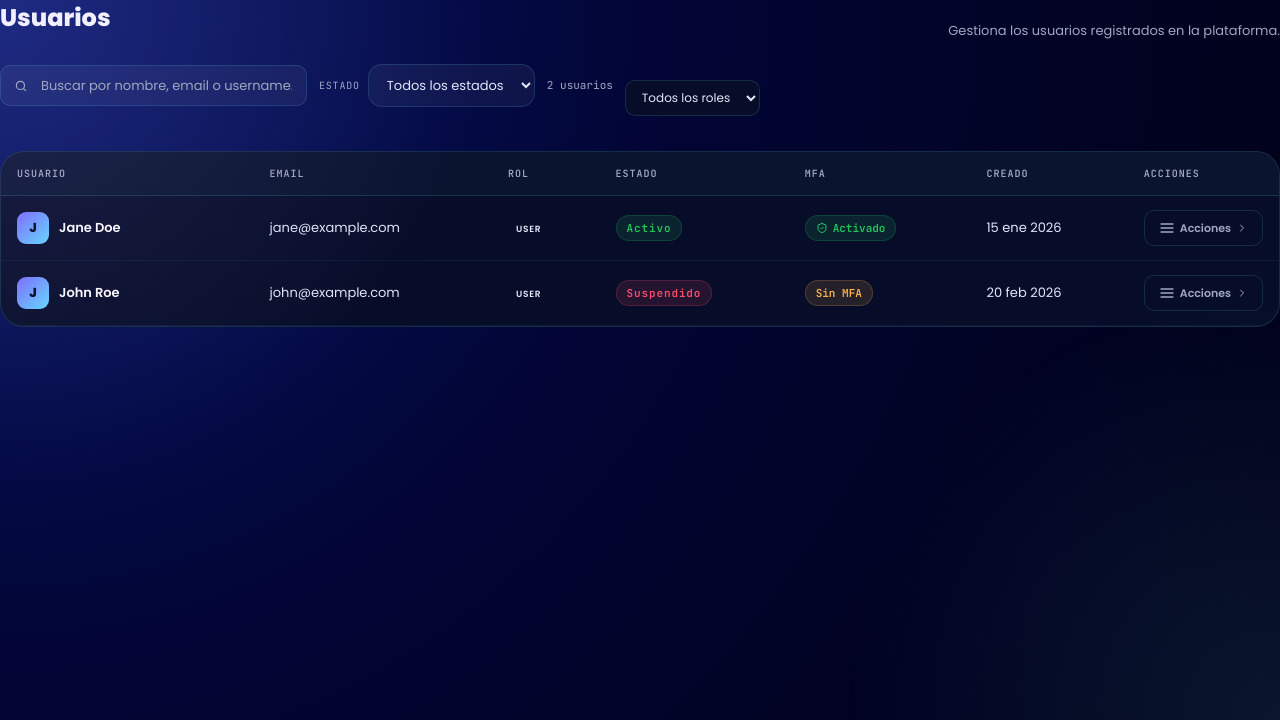
it: AdminUserPage › suspends an active user and updates the row
Click the button "Acciones" in the row of "Jane Doe" at (1203, 228), box [1144, 210, 1263, 246]
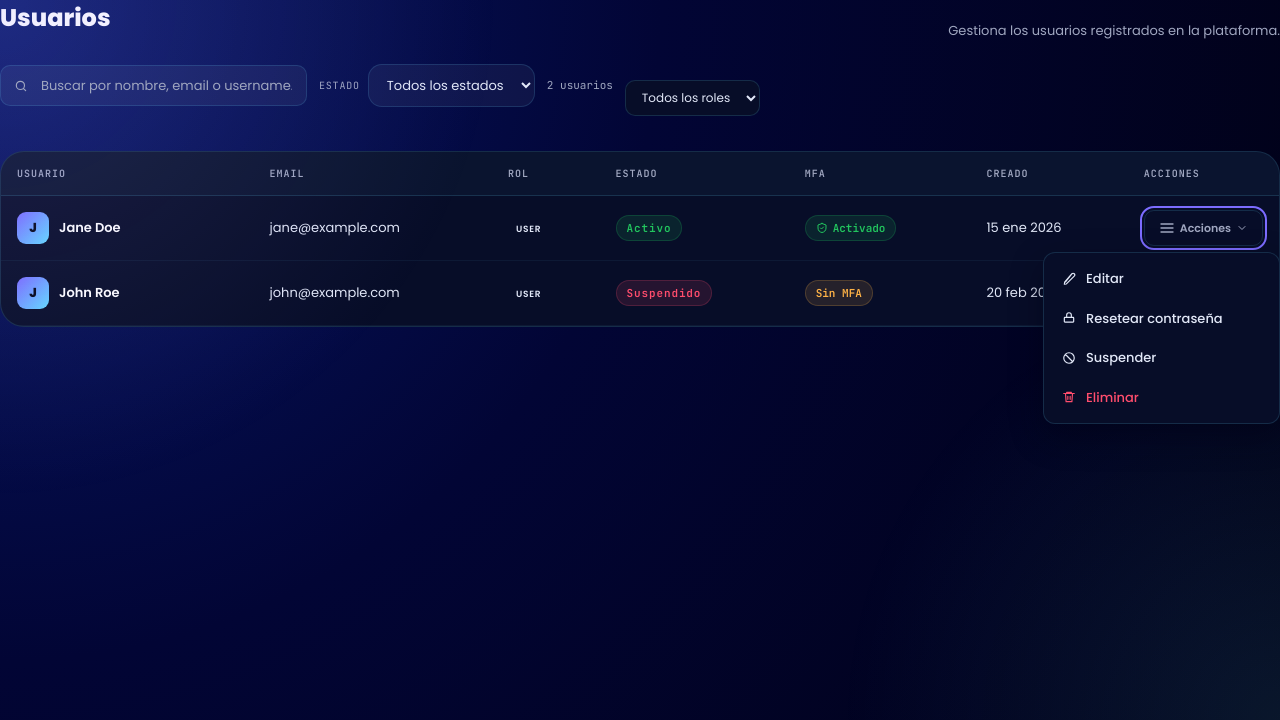
Result: the menu is shown at [1043, 252, 1279, 424]
Click the menu item "Suspender" at (1162, 358), box [1050, 338, 1273, 378]
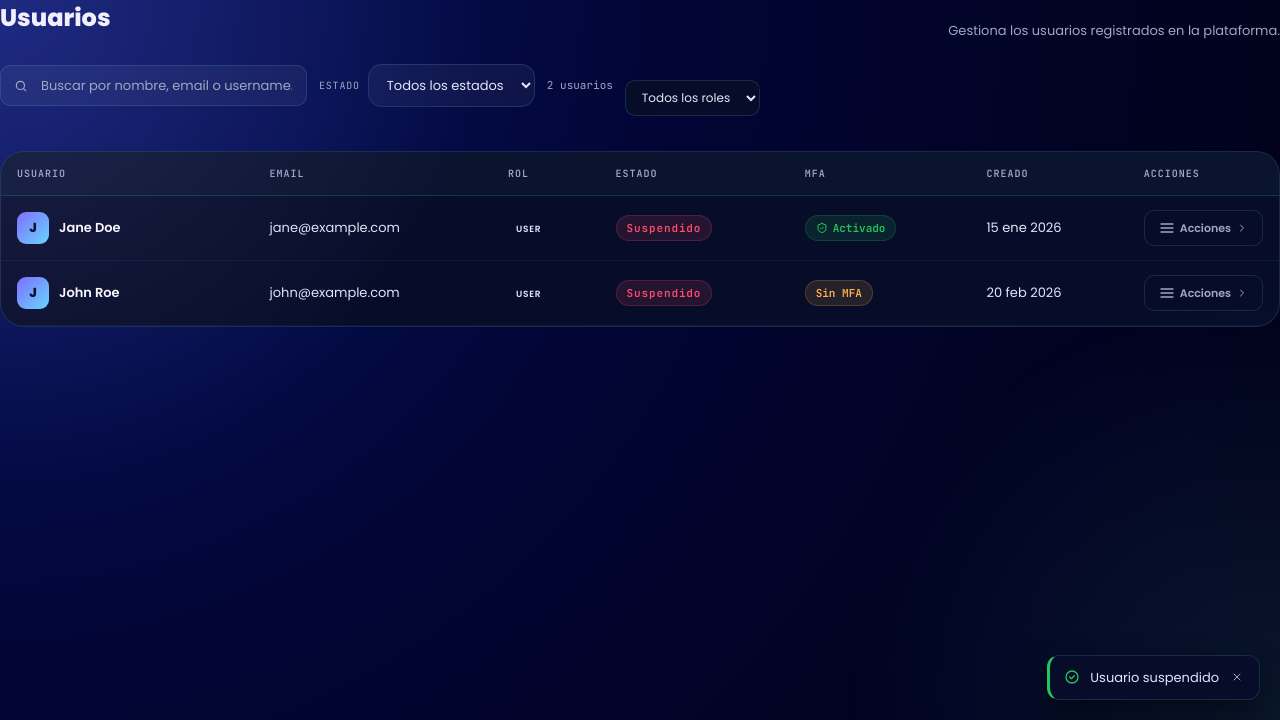
Result: the text "Usuario suspendido" is shown at [1090, 668, 1219, 687]
Result: the text "Suspendido" in the row of "Jane Doe" is shown at [626, 221, 701, 235]
